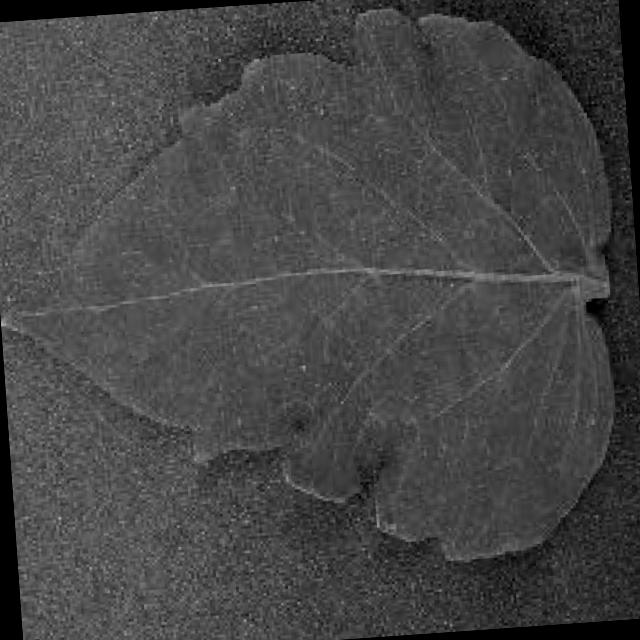healthy: (2, 7, 612, 564)
